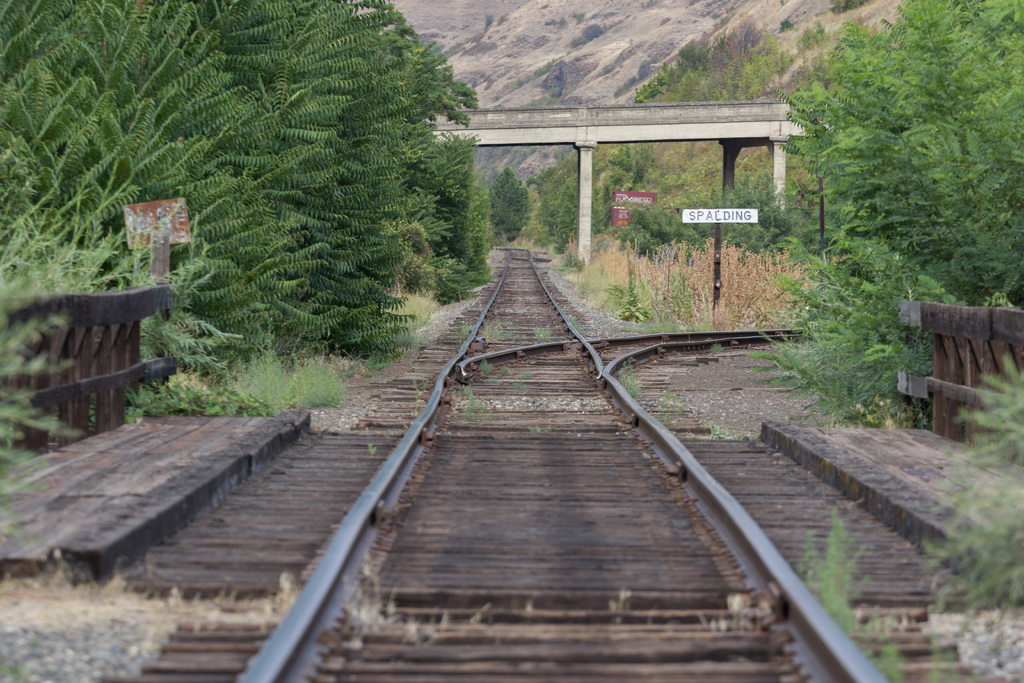Tree: (0, 0, 490, 370), (756, 0, 1024, 425), (631, 15, 793, 103), (529, 150, 656, 251), (488, 164, 533, 244)
